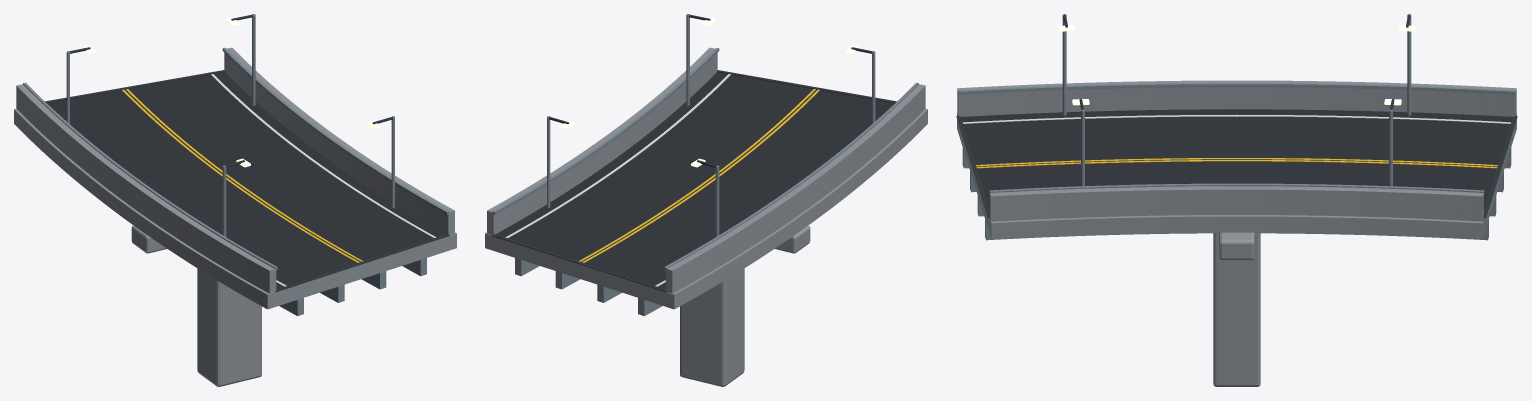
Rendered from rorng_city_bridge_curve_left_15deg_20m.glb.
3 renders of one model, left to right at view 1: azimuth 30°, elevation 25°; view 2: azimuth 150°, elevation 25°; view 3: azimuth 270°, elevation 25°, orthographic. The views are drawn at different scales.
Visible parts, largest first — view 1: rorng_city_bridge_curve_left_15deg_20m_lod0; view 2: rorng_city_bridge_curve_left_15deg_20m_lod0; view 3: rorng_city_bridge_curve_left_15deg_20m_lod0.
Boxes of the visible parts, box(x1,y1,x2,y2) form: rorng_city_bridge_curve_left_15deg_20m_lod0: box(14, 14, 456, 386); rorng_city_bridge_curve_left_15deg_20m_lod0: box(485, 14, 927, 386); rorng_city_bridge_curve_left_15deg_20m_lod0: box(956, 14, 1517, 386).
Size of what is drawn, in the model's own units: 10.61 by 13.25 by 21.3.
